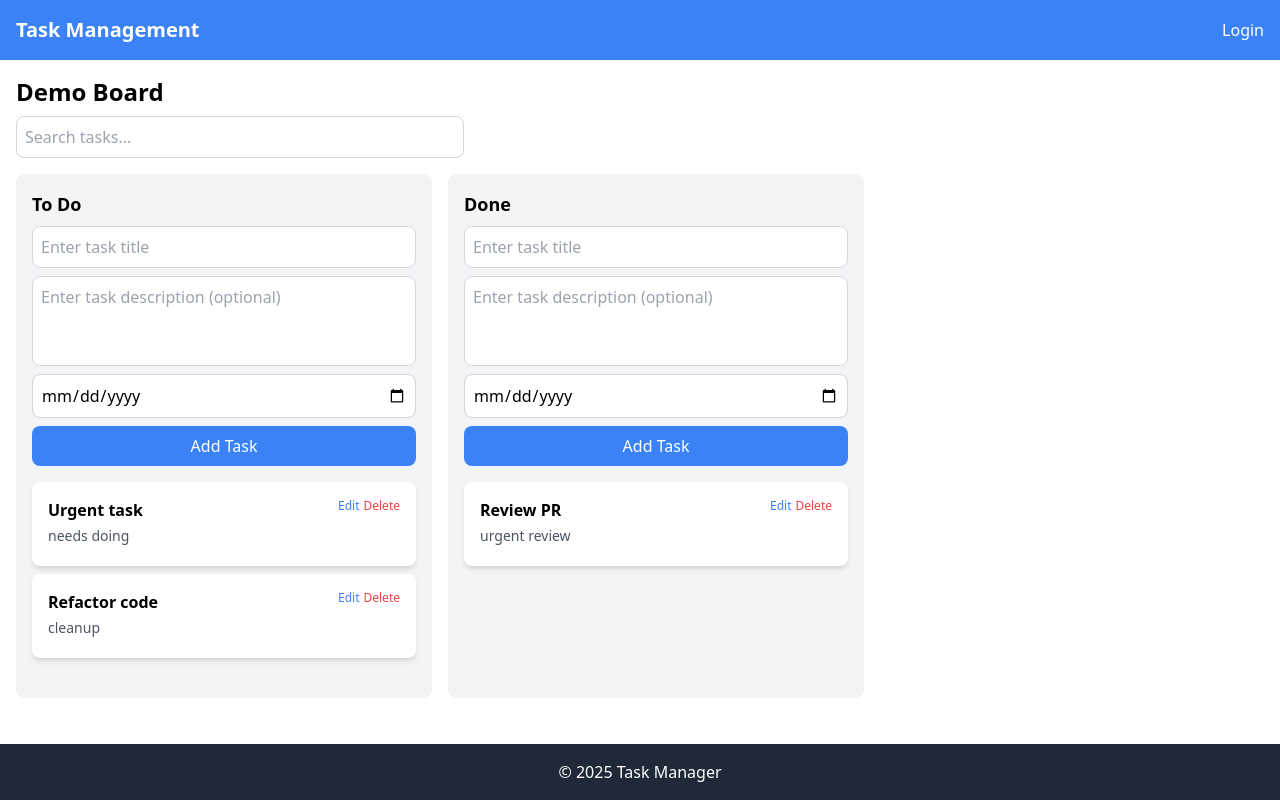
Scenario: Board search filter › filters tasks based on search query
The width and height of the screenshot is (1280, 800).
Check: the heading "Urgent task" is shown, box [48, 498, 143, 522]
# Type search query
Type "urgent" into the field with placeholder "Search tasks...".
click(240, 137); type("urgent")  # box [16, 116, 464, 158]
Wait 400 ms
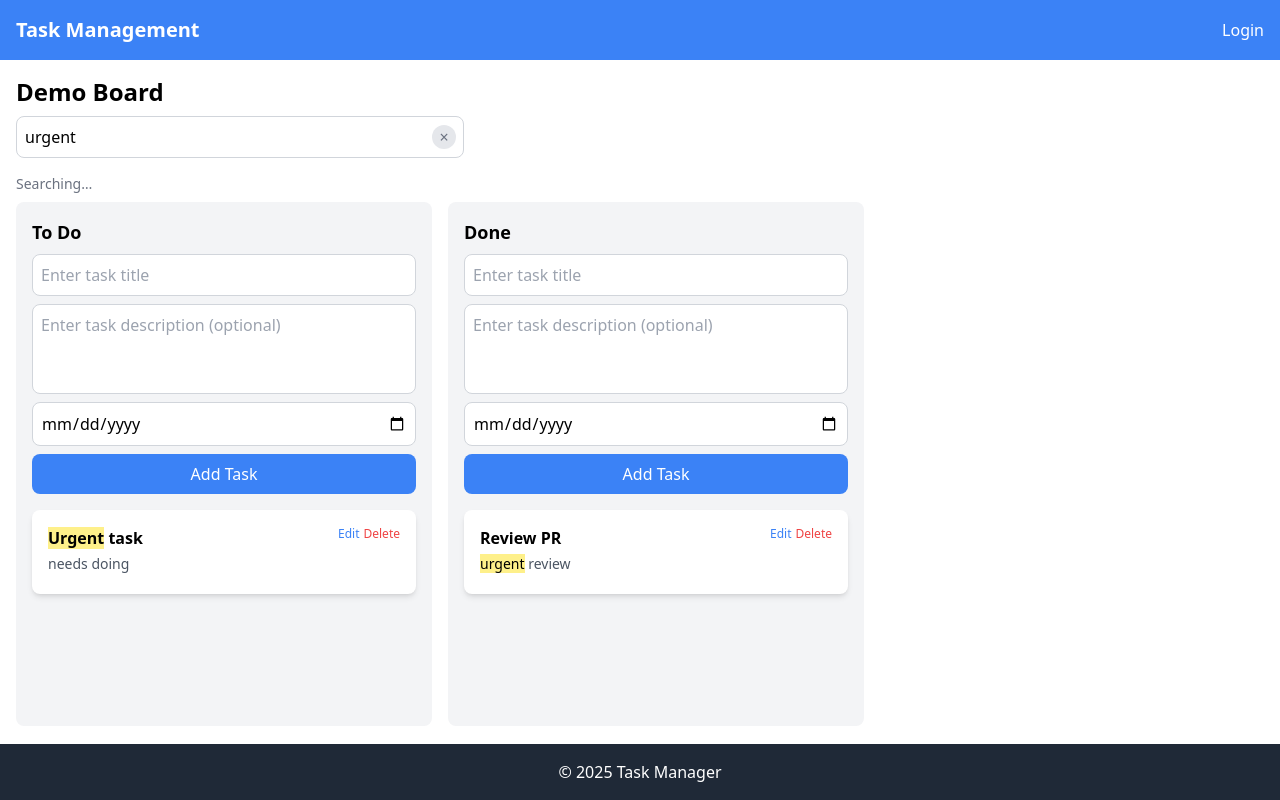
Check: the text "Urgent" is shown, box [48, 527, 104, 549]
Check: the heading "Refactor code" is gone
